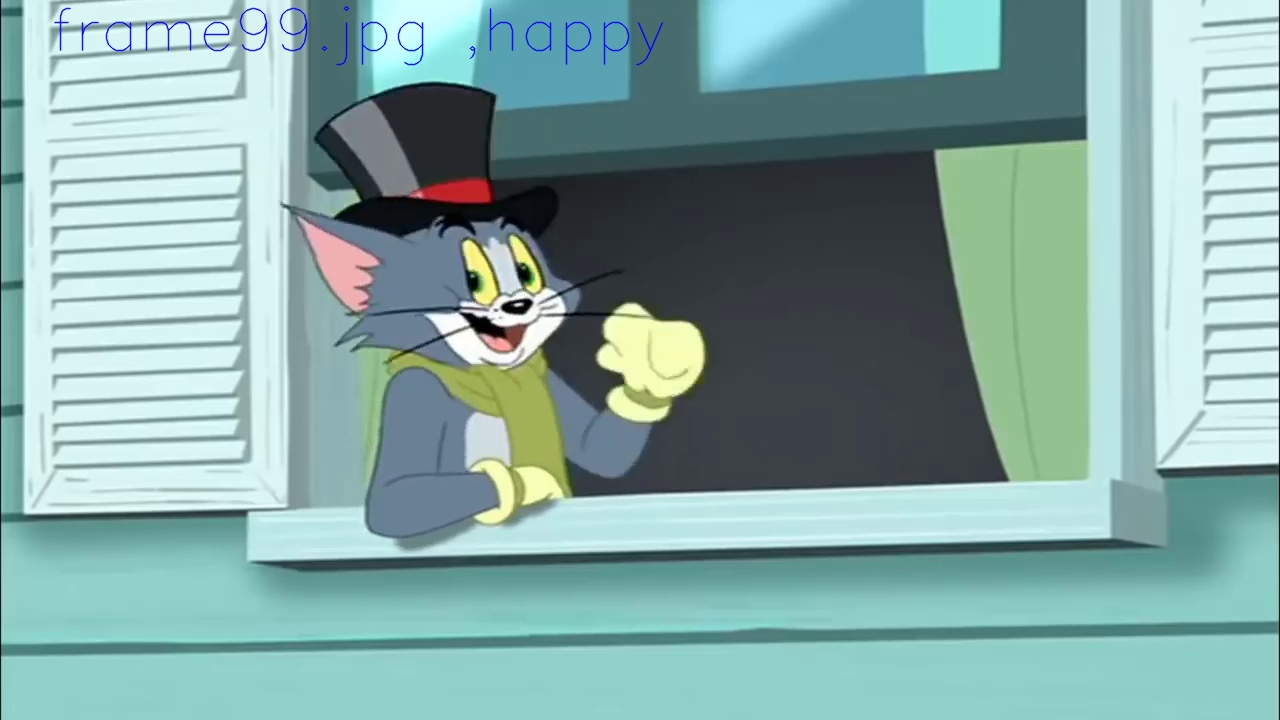happy: (431, 216, 548, 366)
